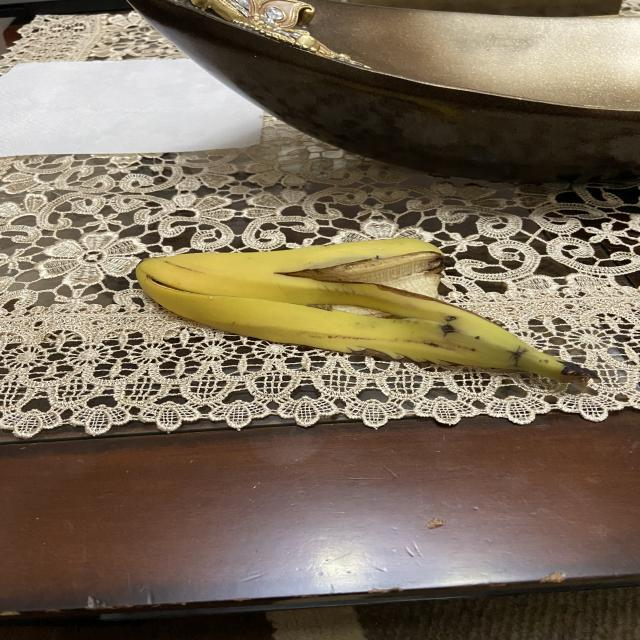banana-peel: (134, 236, 594, 385)
